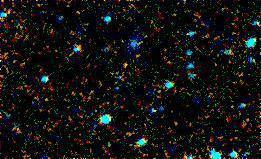star: (125, 43, 155, 73)
